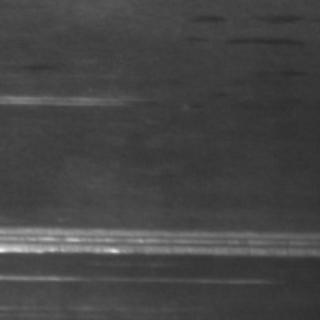scratches: (0, 216, 316, 260), (0, 88, 148, 110)
